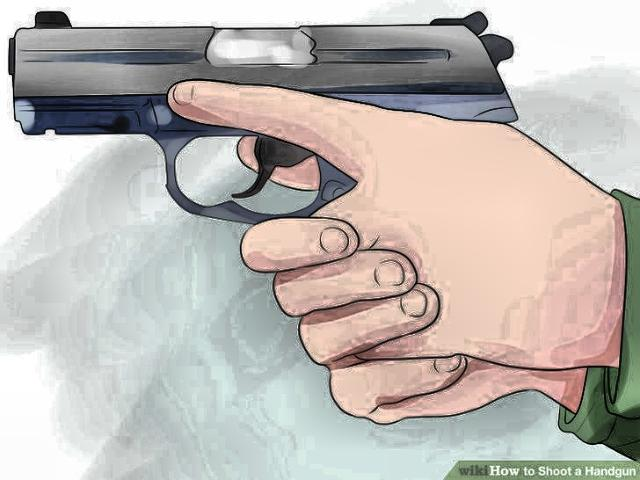pistol: (3, 13, 545, 226)
